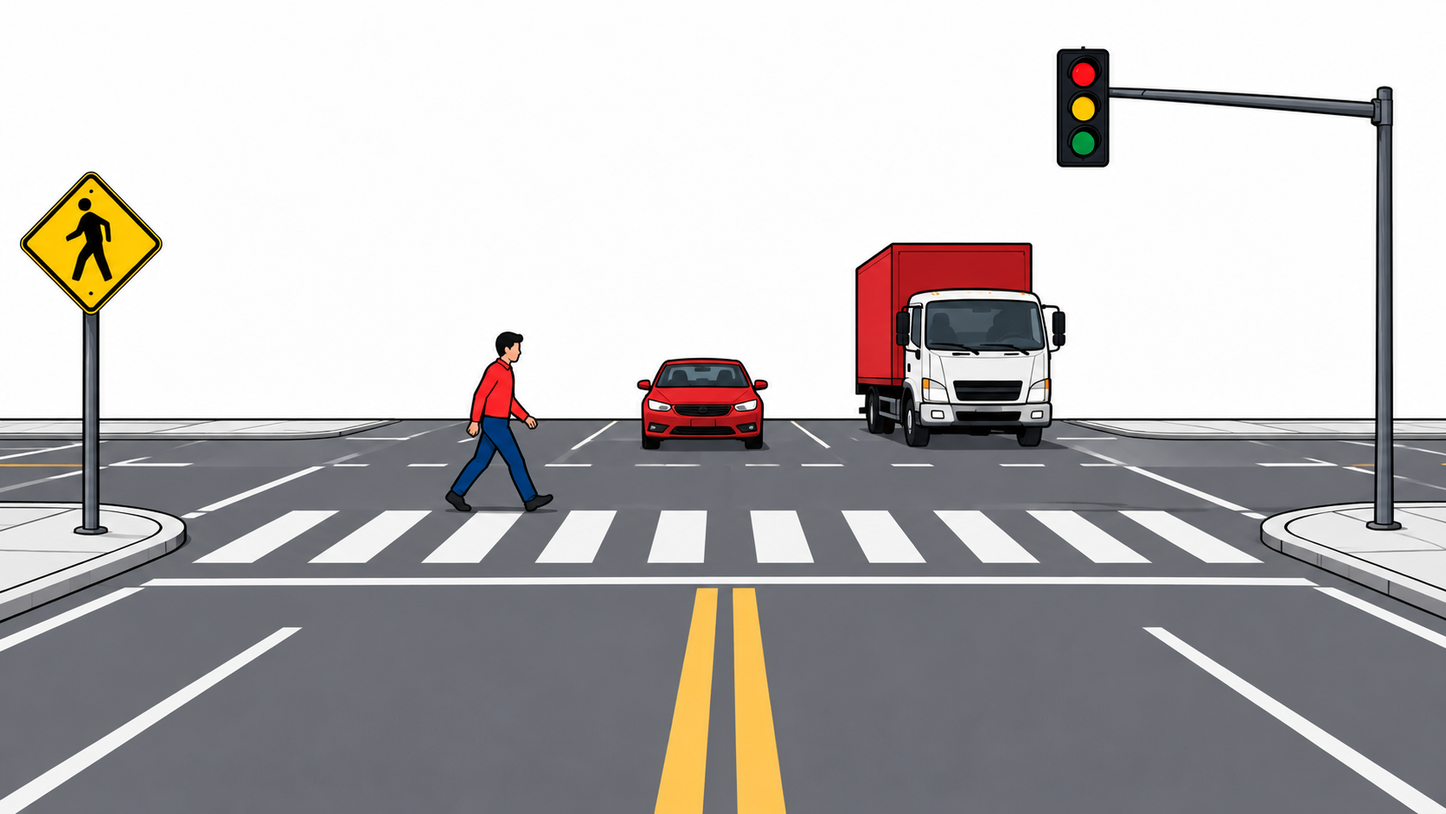bus: (52, 208, 441, 446)
car: (608, 334, 794, 458)
person: (374, 358, 502, 572)
traffic_light: (1025, 59, 1097, 200)
truck: (830, 202, 1071, 453)
zebra_crossing: (74, 535, 1337, 610)
